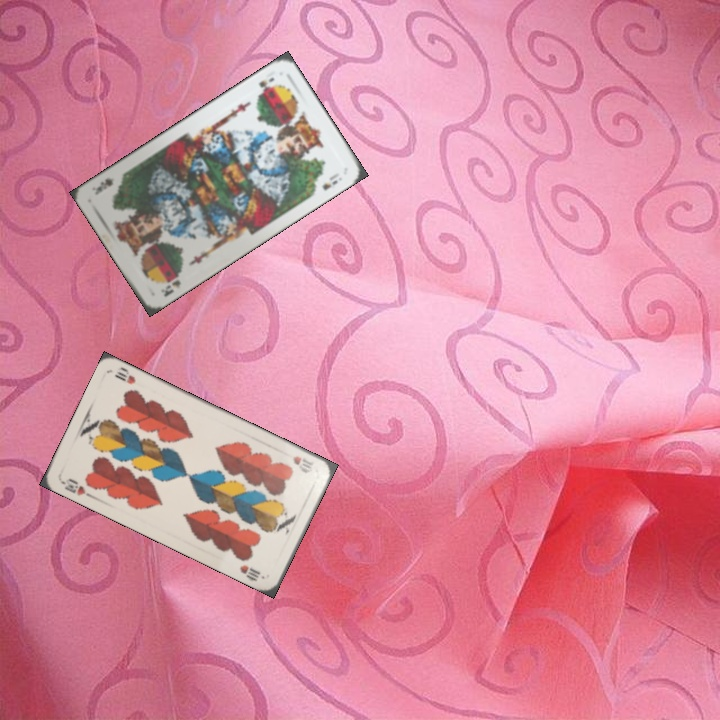H10: (57, 474, 88, 498), (289, 452, 317, 475)
SK: (157, 275, 183, 299), (255, 73, 277, 93)
